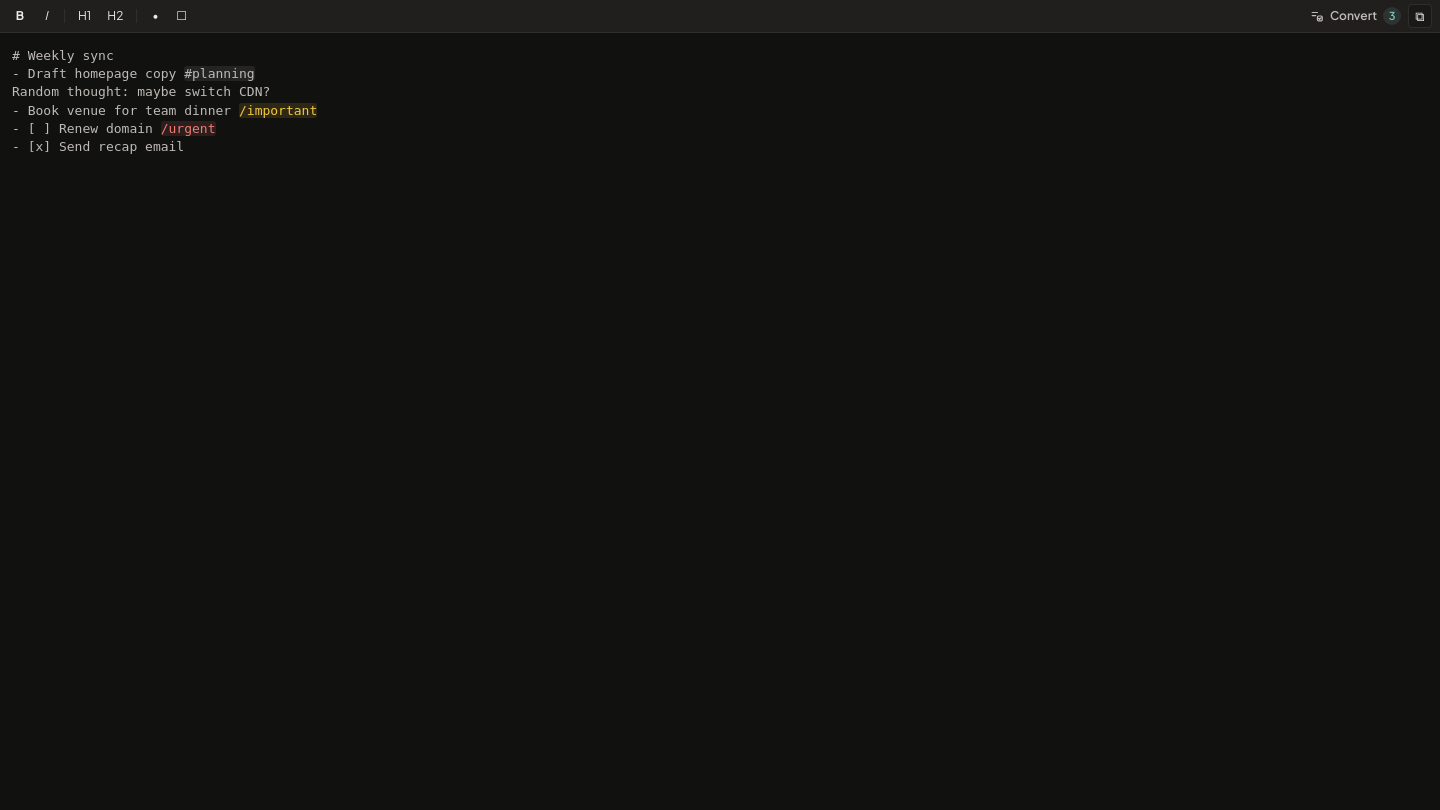
Test: Convert preview › a selection-scoped convert says so
Click the button with aria-label "Convert 3 selected lines to tasks": (1354, 16) [1303, 4, 1406, 28]
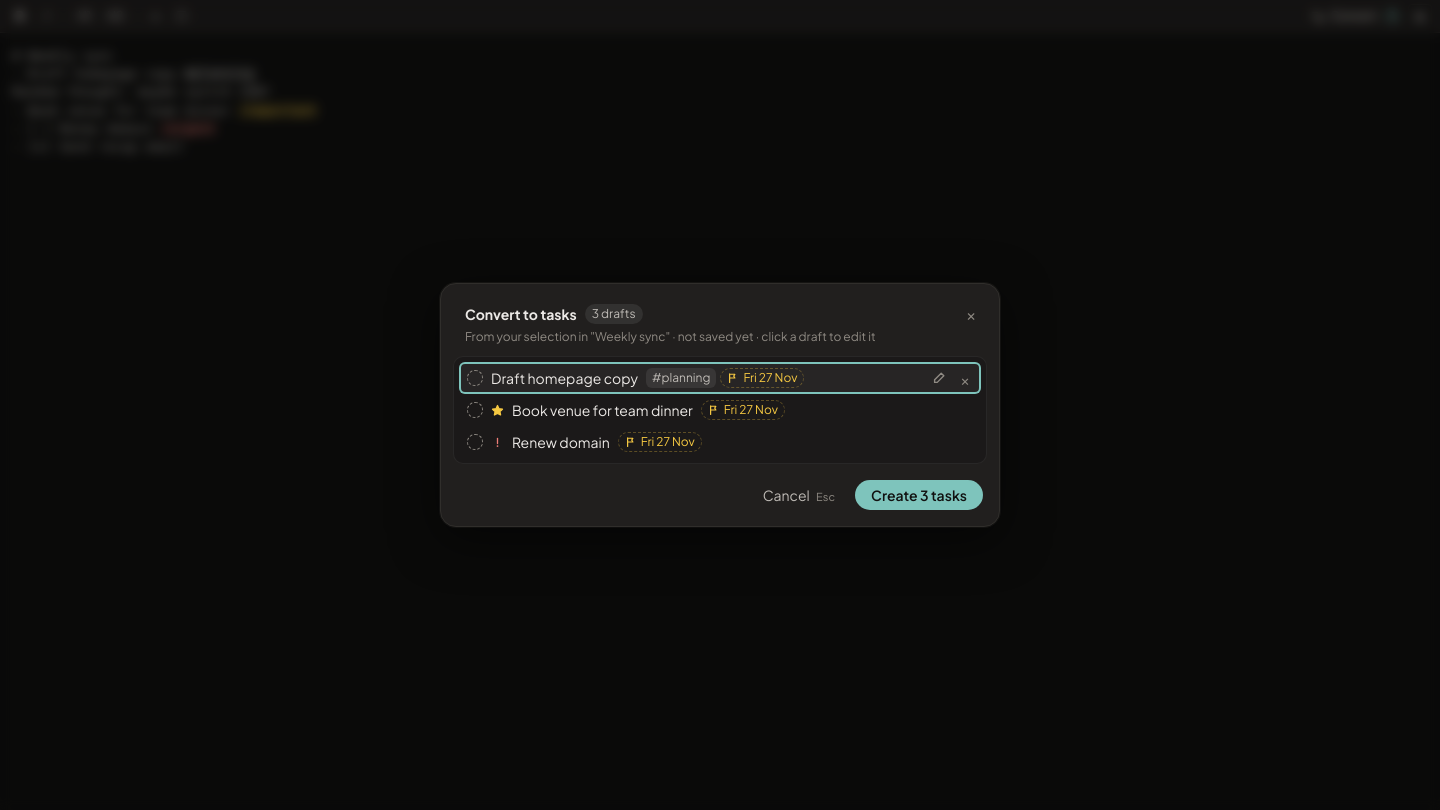
Check: the text "From your selection in \"Weekly sync\"" is shown, box [465, 329, 670, 344]
